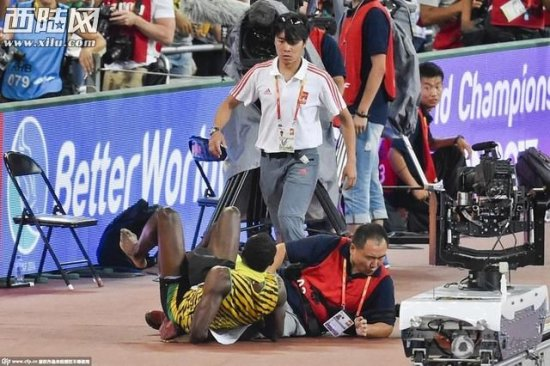fall: (117, 193, 260, 353)
